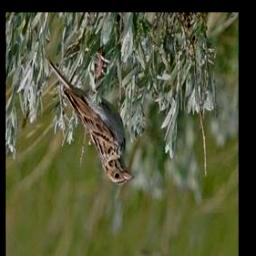Sparrow: (45, 47, 135, 187)
